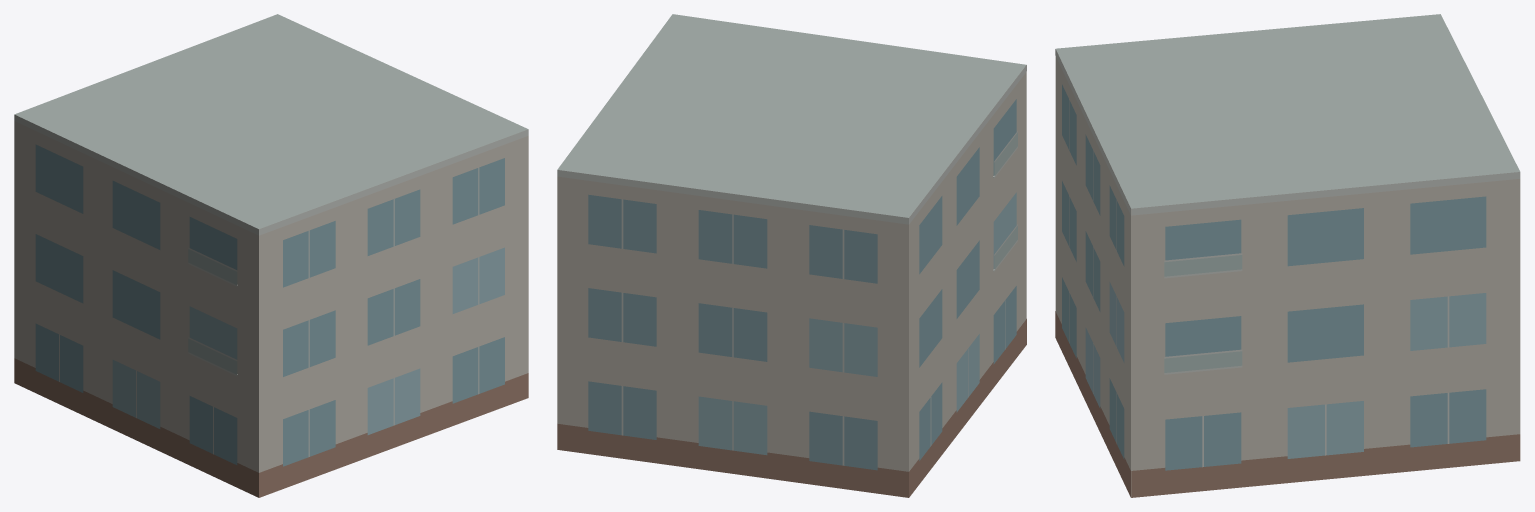
Rendered from survey-upis-32509305.glb.
The picture shows the model from 3 angles, left to right: view 1: azimuth 30°, elevation 25°; view 2: azimuth 150°, elevation 25°; view 3: azimuth 270°, elevation 25°; orthographic projection. The views are drawn at different scales.
Parts seen in each view (by area): view 1: survey-upis-32509305.tmp; view 2: survey-upis-32509305.tmp; view 3: survey-upis-32509305.tmp.
Part boxes in pixels (bbox=[...]): survey-upis-32509305.tmp: bbox=[14, 14, 528, 497]; survey-upis-32509305.tmp: bbox=[557, 14, 1026, 497]; survey-upis-32509305.tmp: bbox=[1055, 14, 1520, 497].
Size of the model in its own units: 14.74 by 10.2 by 14.87.
